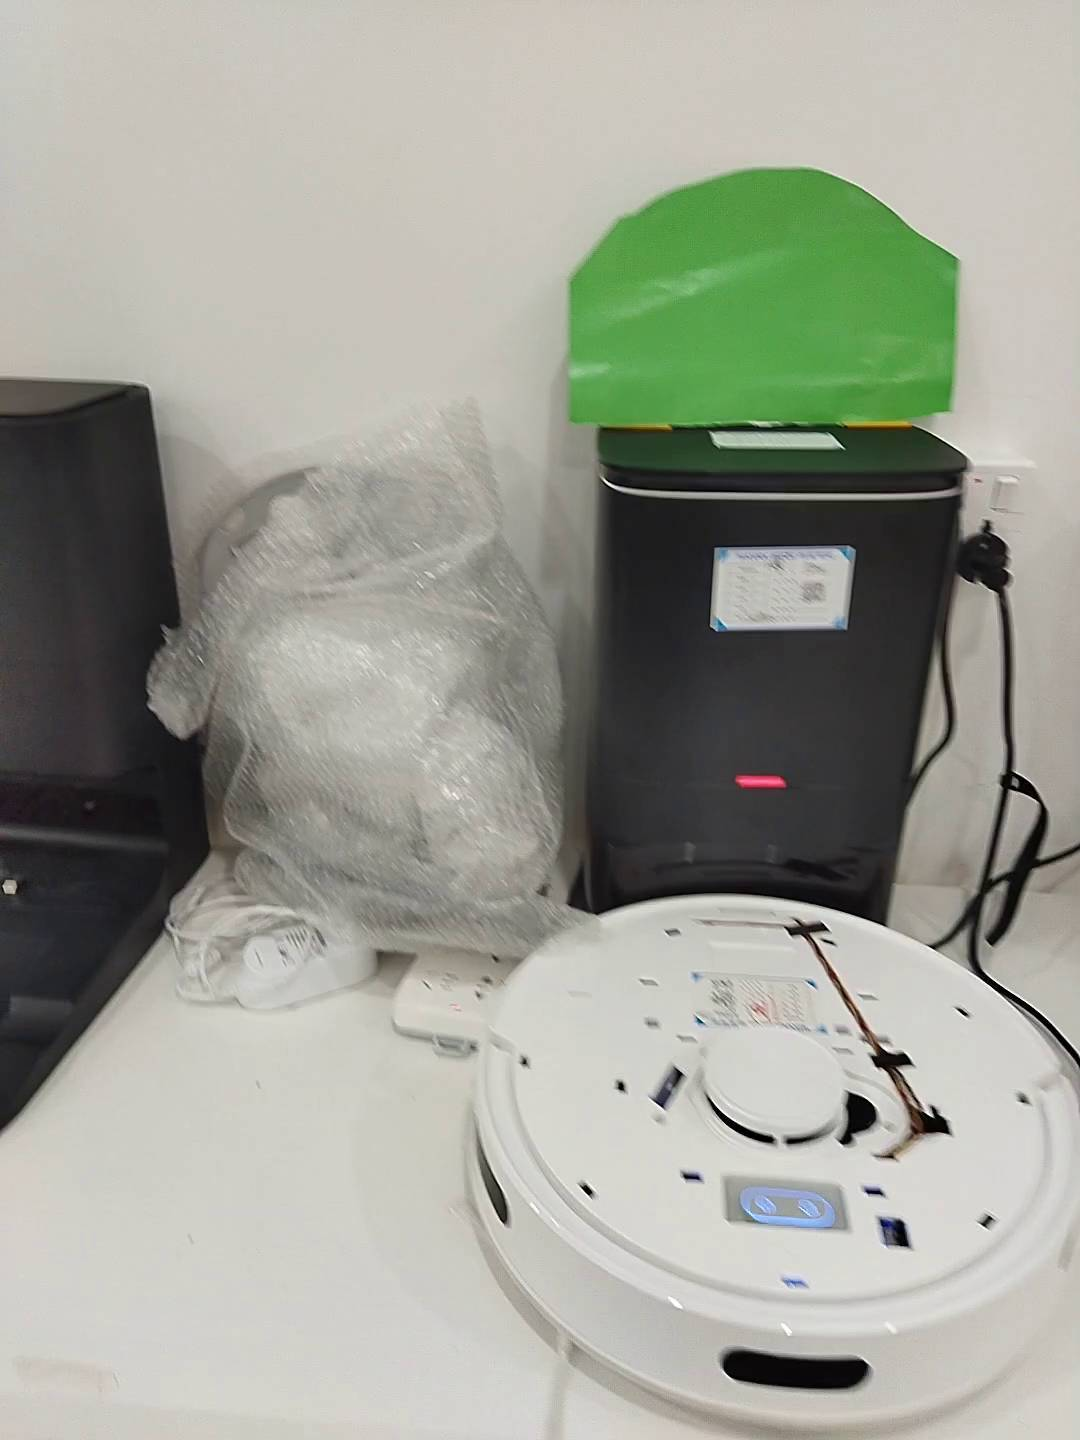dust collecting barrel: (575, 420, 973, 933), (1, 379, 214, 1138)
